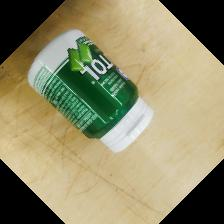Xylitol_green: (27, 28, 155, 154)
